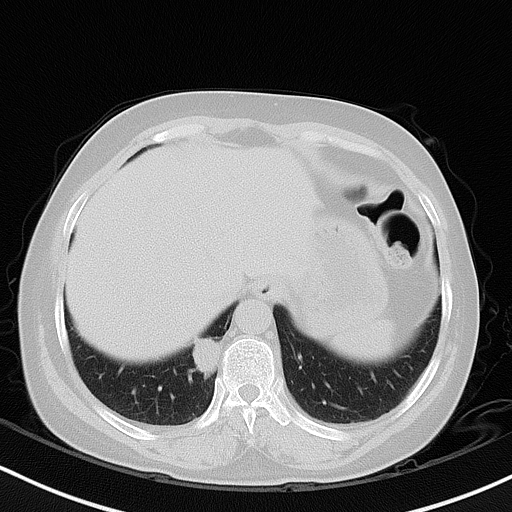nodule: (190, 338, 220, 378)
